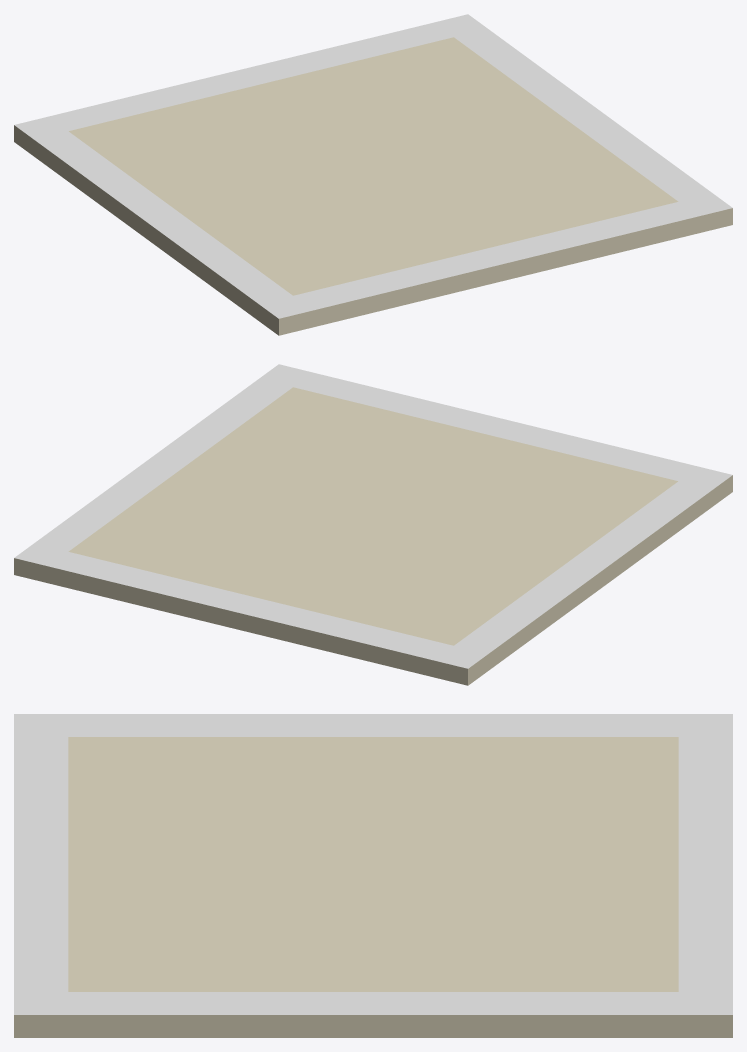
The model's file is Floor_1.fbx.
3 views of the same model, one above another, from view 1: azimuth 30°, elevation 25°; view 2: azimuth 150°, elevation 25°; view 3: azimuth 270°, elevation 25° (orthographic). The views are drawn at different scales.
Visible parts, largest first — view 1: Floor_1; view 2: Floor_1; view 3: Floor_1.
Boxes of the visible parts, x1=… form: Floor_1: x1=14, y1=14, x2=732, y2=335; Floor_1: x1=14, y1=364, x2=732, y2=685; Floor_1: x1=14, y1=714, x2=732, y2=1037.
Bounding box in the file's own units: 176 × 6.28 × 178.
